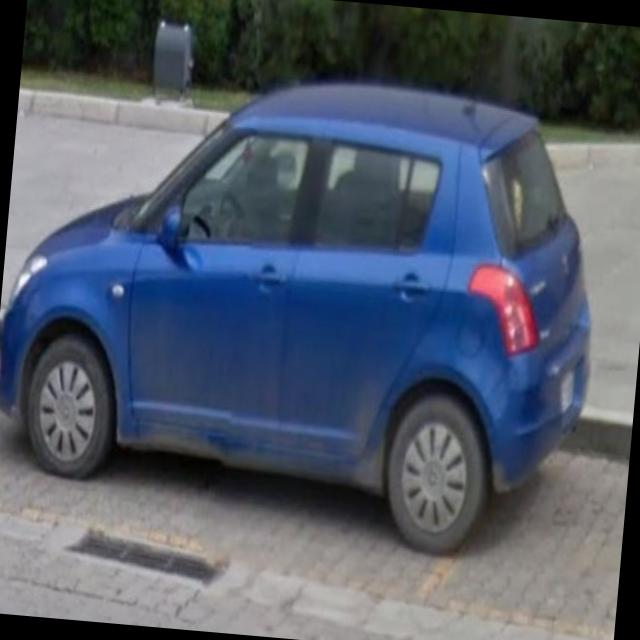car: (0, 54, 612, 556)
